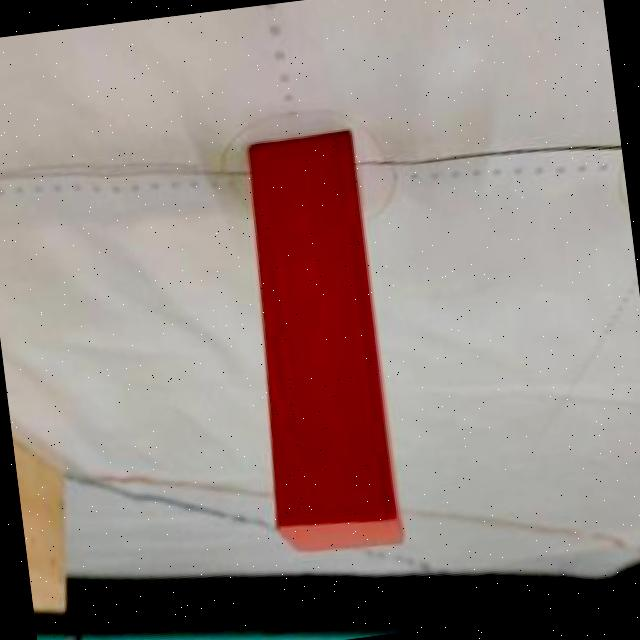redbox: (227, 127, 407, 564)
